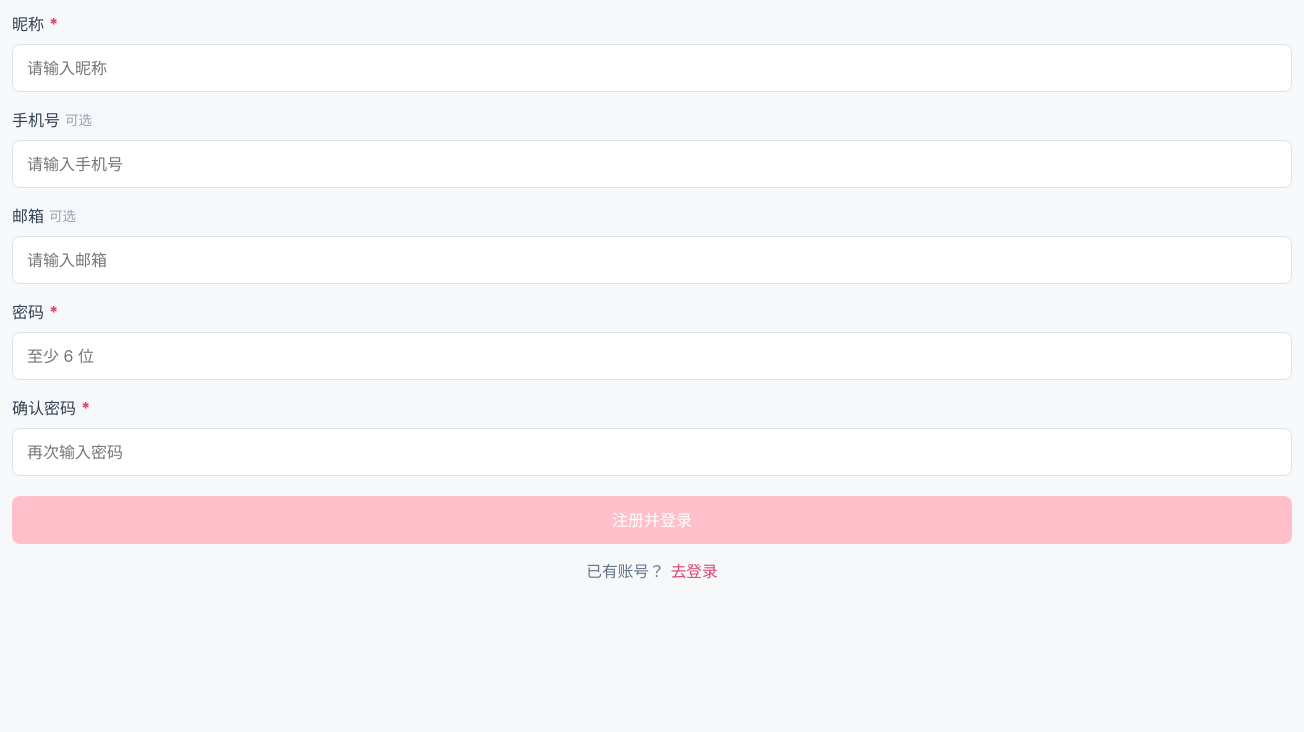
Test: 注册表单会阻止无联系方式、弱密码与不一致密码
Click the button "注册并登录" at (652, 520), box [12,496,1292,544]
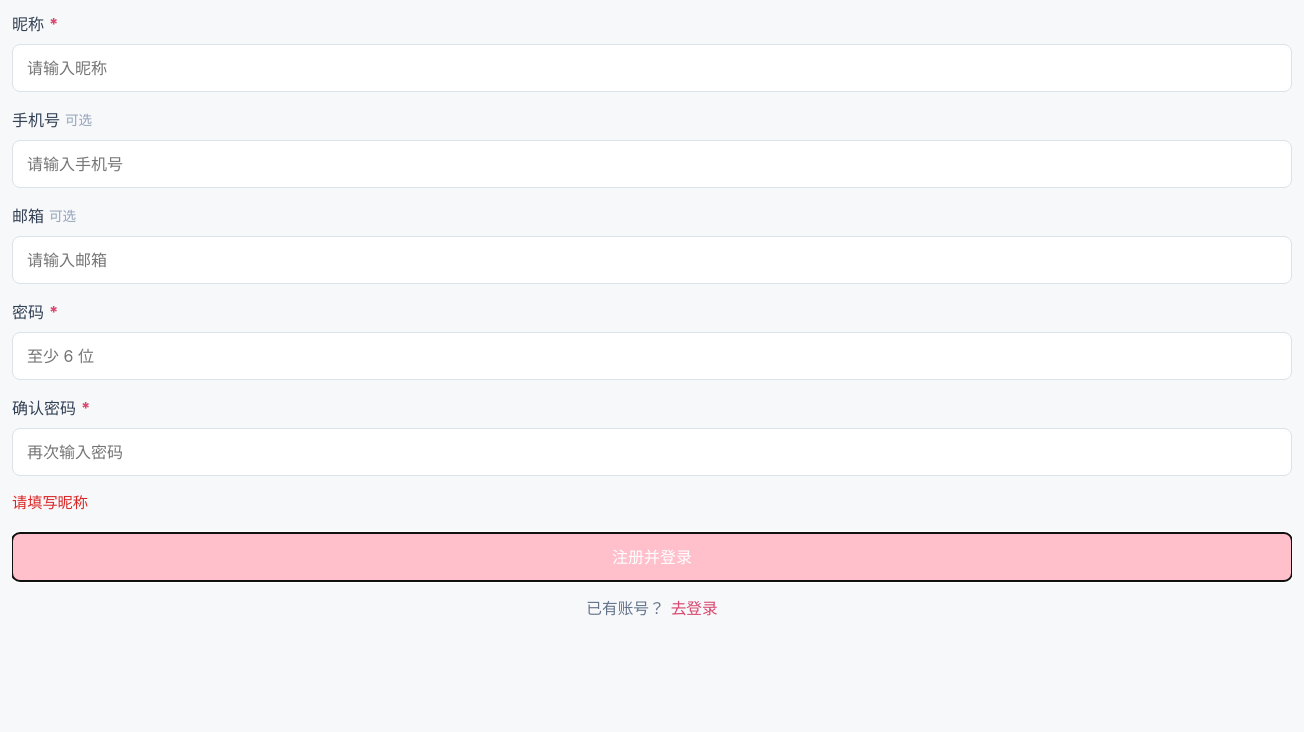
expect the text "请填写昵称" is shown: met, box [12,493,88,512]
Type "新用户" into the field with placeholder "请输入昵称" at (652, 68), box [12,44,1292,92]
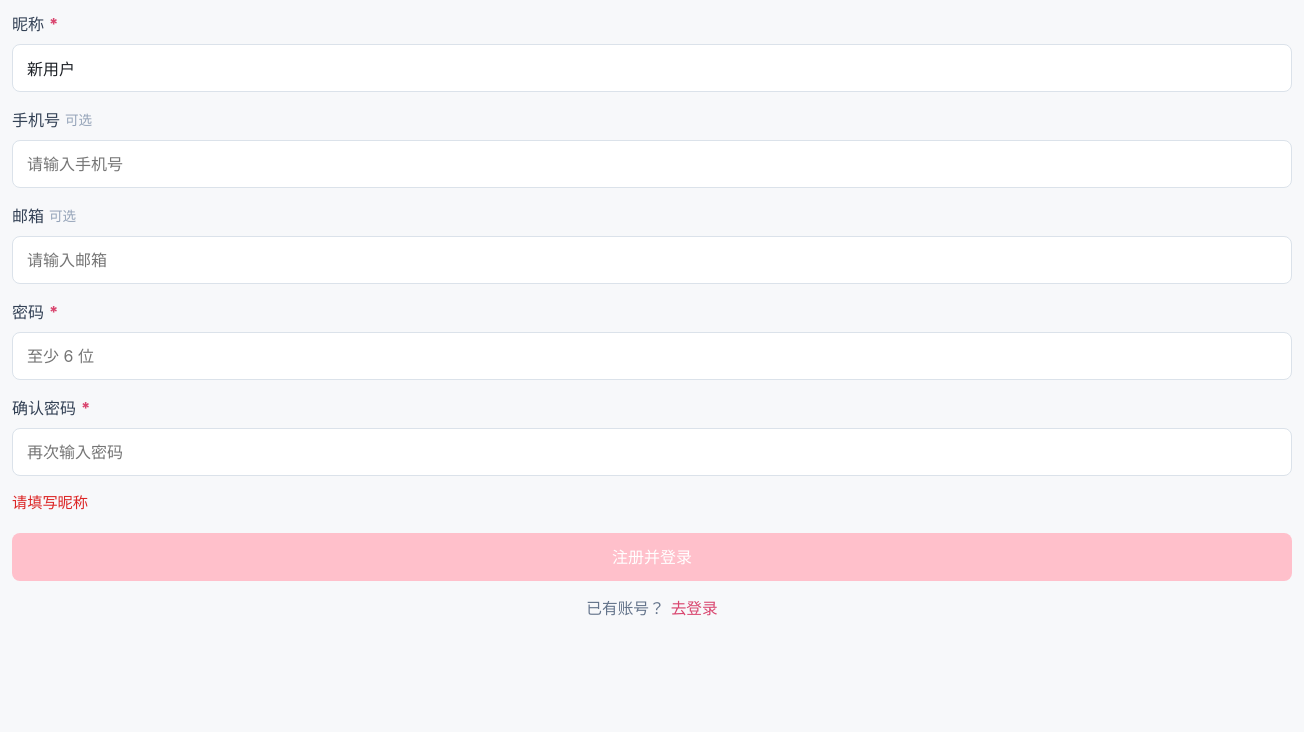
Click the button "注册并登录" at (652, 557), box [12,533,1292,581]
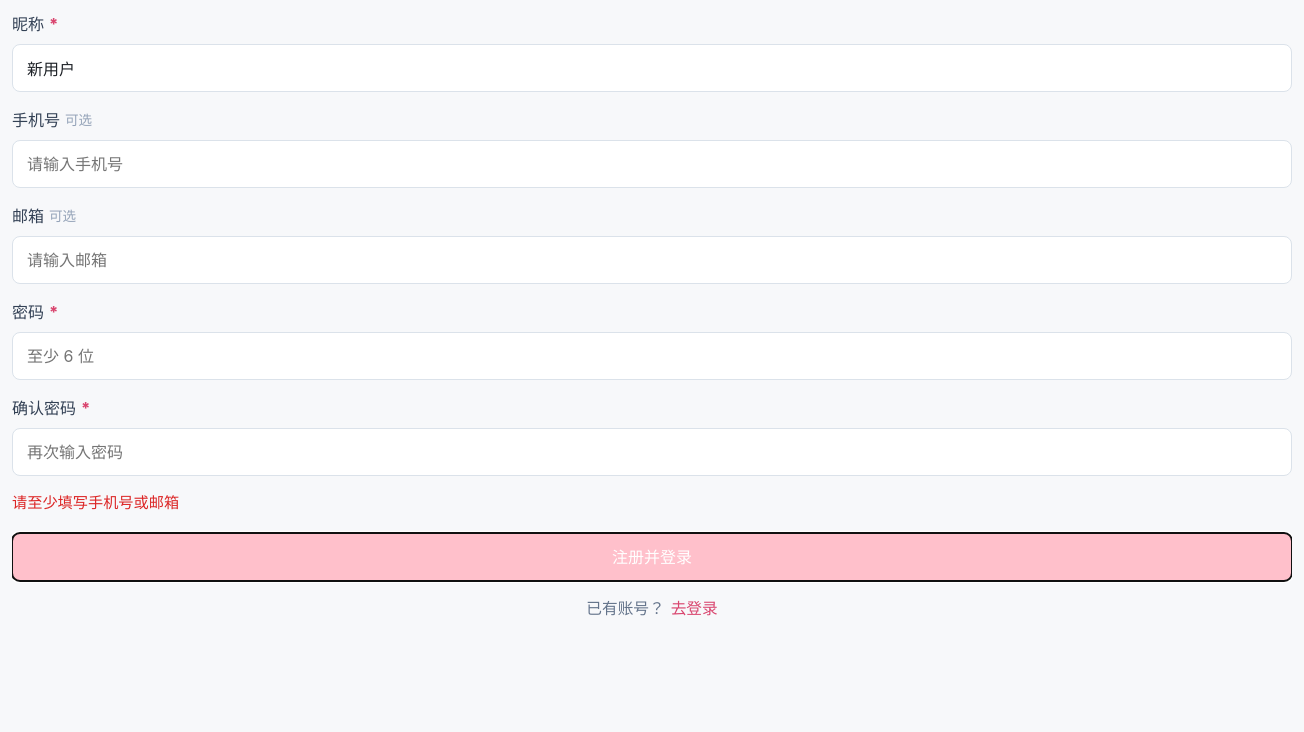
expect the text "请至少填写手机号或邮箱" is shown: met, box [12,493,179,512]
Type "user@example.com" into the field with placeholder "请输入邮箱" at (652, 260), box [12,236,1292,284]
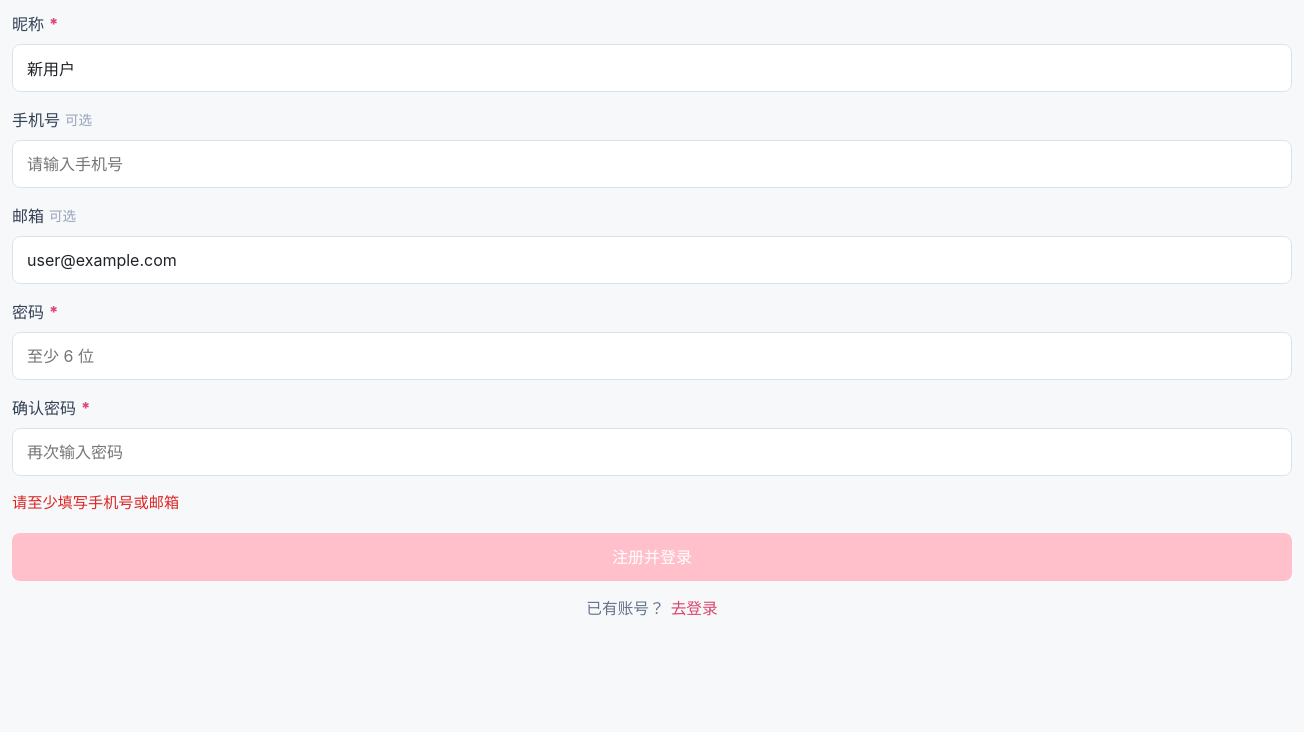
Type "password123" into the password field with placeholder "至少 6 位" at (652, 356), box [12,332,1292,380]
Type "different123" into the password field with placeholder "再次输入密码" at (652, 452), box [12,428,1292,476]
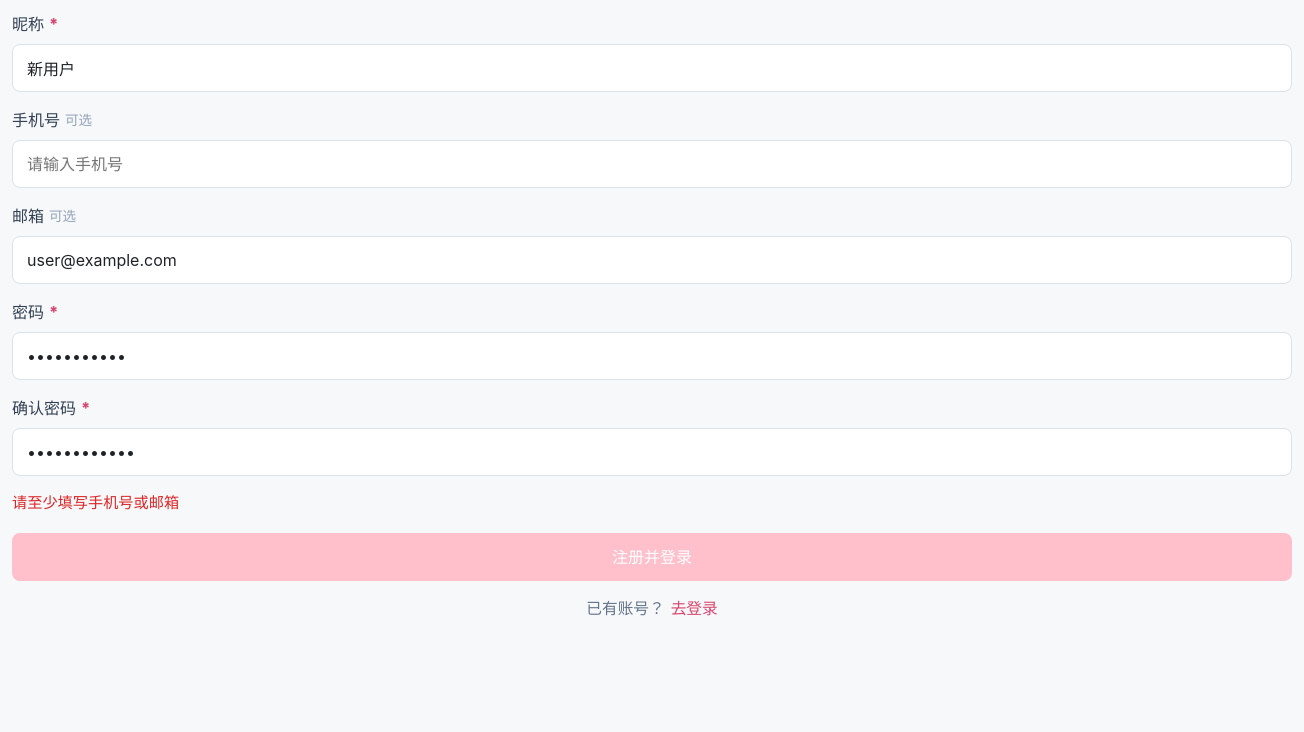
Click the button "注册并登录" at (652, 557), box [12,533,1292,581]
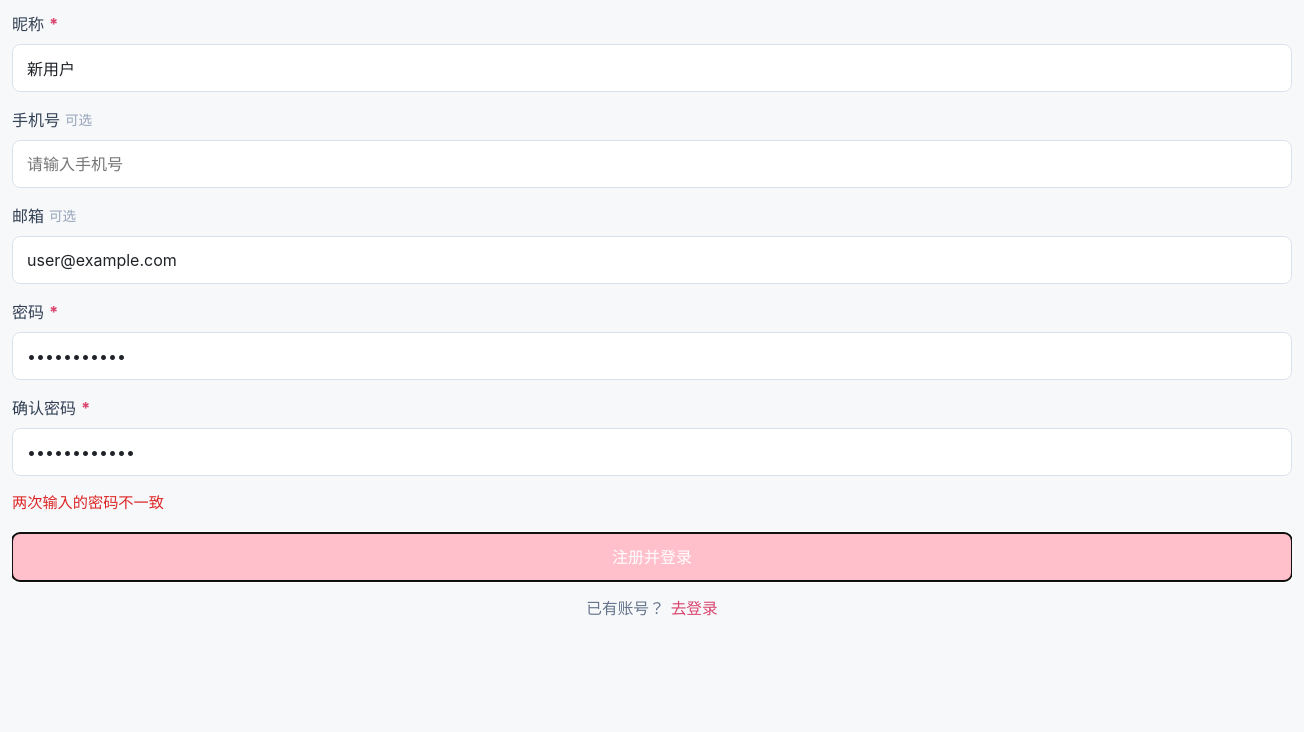
expect the text "两次输入的密码不一致" is shown: met, box [12,493,164,512]
